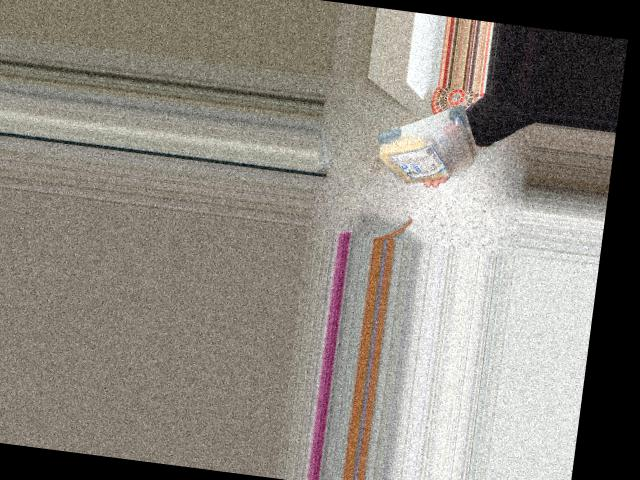cheese: (368, 97, 498, 195)
